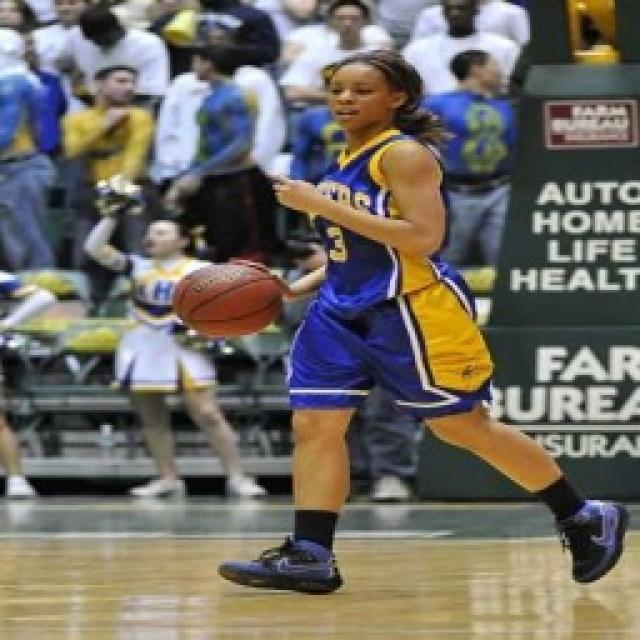rim: (170, 256, 284, 341)
